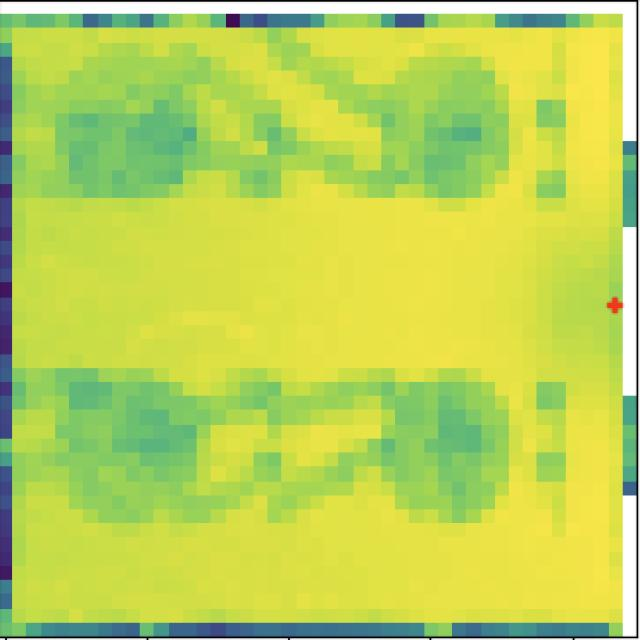Concrete: (59, 42, 208, 206)
Glass: (364, 363, 522, 532)
Metal: (56, 363, 231, 538)
Wood: (361, 42, 522, 202)
